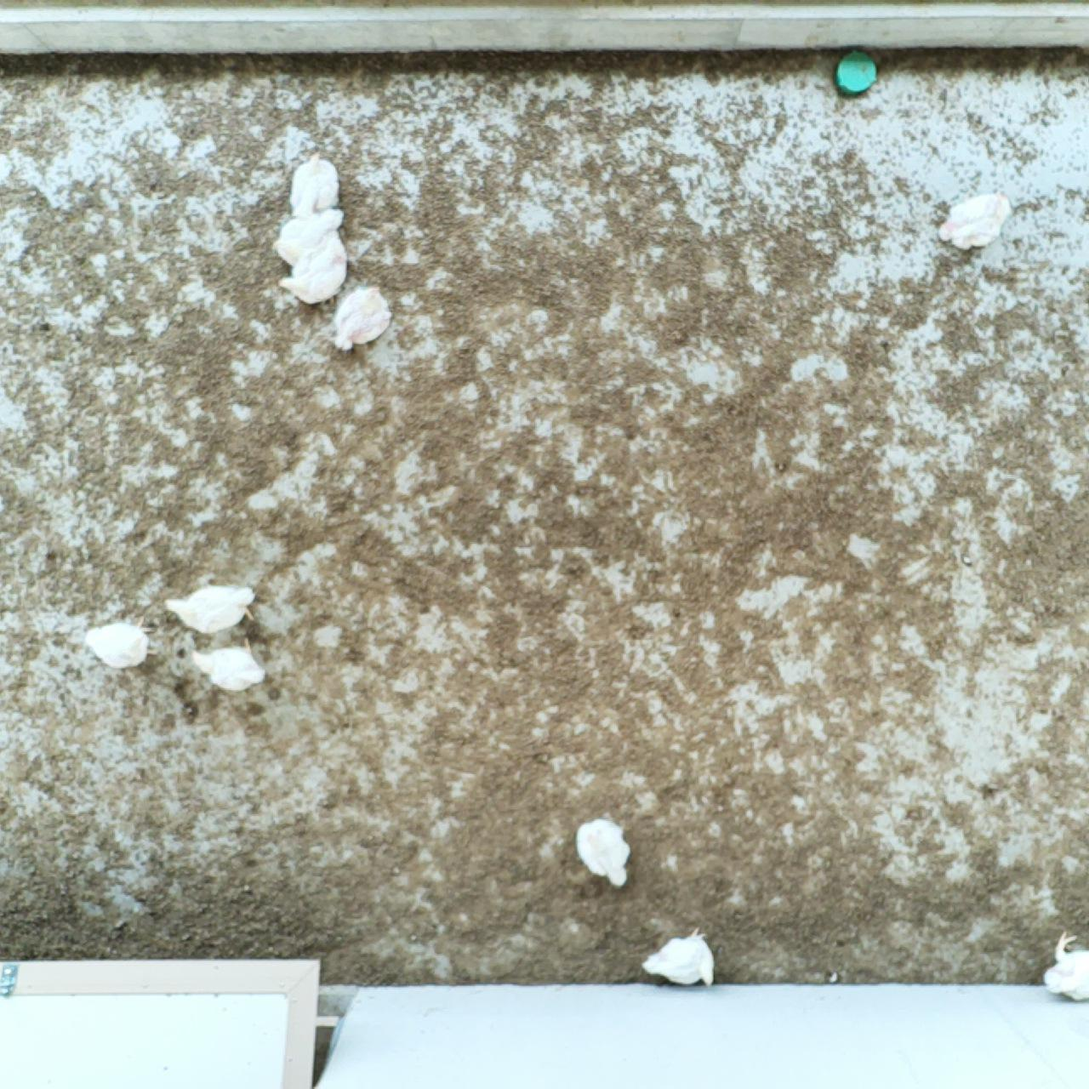chicken: (935, 182, 1015, 260), (275, 229, 352, 309), (638, 923, 721, 991), (162, 580, 258, 638), (80, 611, 161, 674), (271, 206, 349, 270), (331, 281, 396, 356), (189, 636, 271, 695), (573, 813, 635, 889), (284, 147, 345, 221), (1039, 923, 1089, 1003)
